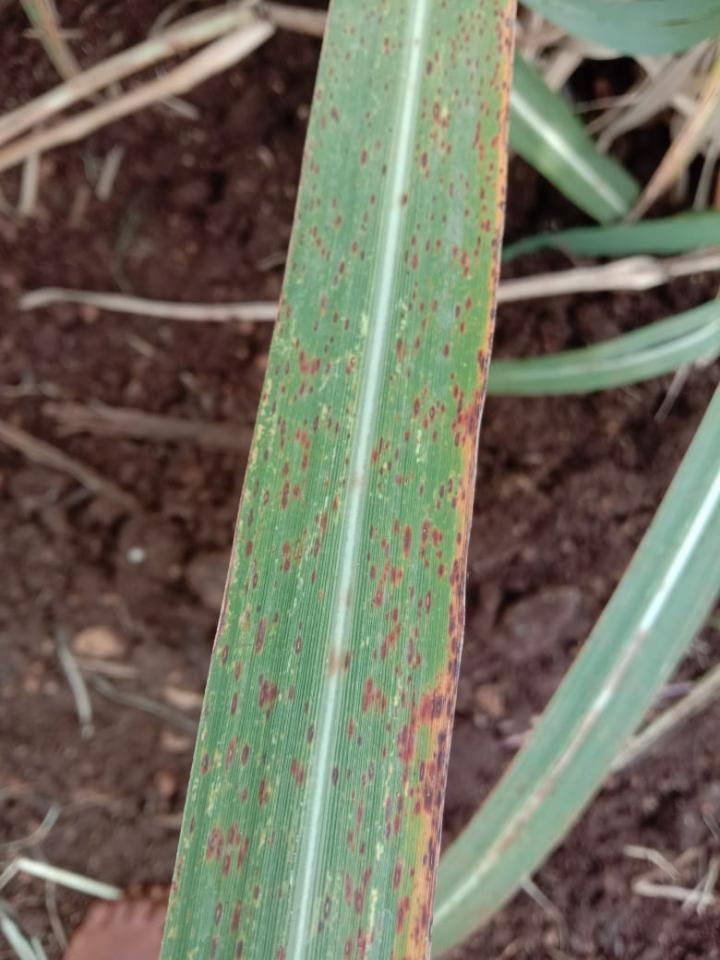Rust: (168, 0, 416, 959), (312, 0, 518, 959)
